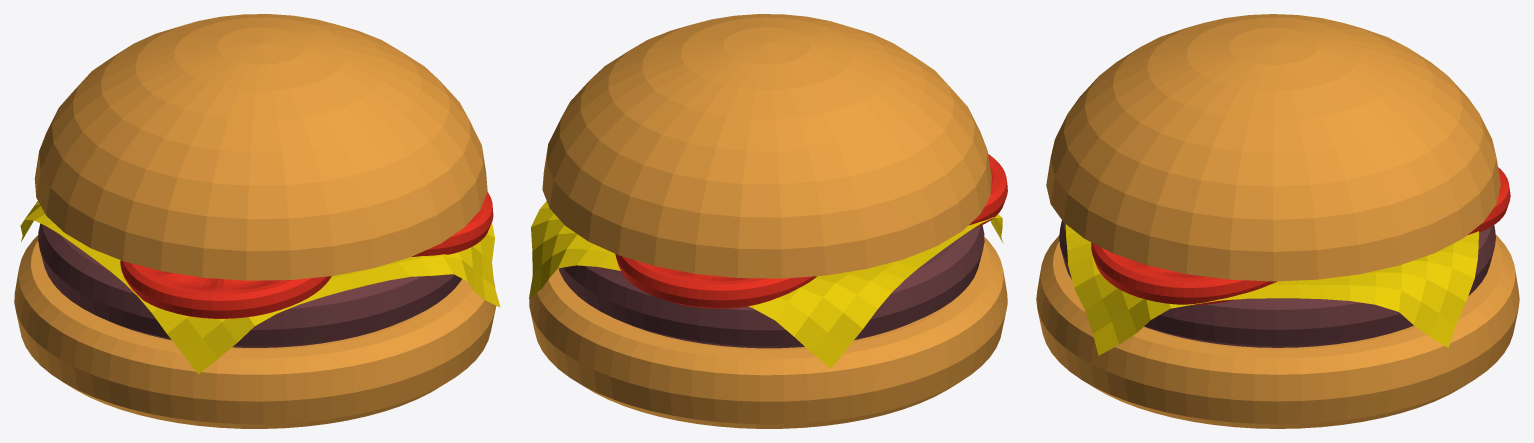
File: burger.fbx
3 renders of one model, left to right at view 1: azimuth 30°, elevation 25°; view 2: azimuth 150°, elevation 25°; view 3: azimuth 270°, elevation 25°, orthographic.
Visible parts, largest first — view 1: Sphere, Cylinder, Cylinder.001, Plane, Cylinder.002, Cylinder.005; view 2: Sphere, Cylinder, Cylinder.001, Plane, Cylinder.004, Cylinder.002; view 3: Sphere, Cylinder, Plane, Cylinder.001, Cylinder.005, Cylinder.004.
Boxes of the visible parts, x1,y1,x2,y2 form: Sphere: (34, 14, 487, 280); Cylinder: (14, 235, 496, 428); Cylinder.001: (38, 223, 461, 347); Plane: (20, 201, 500, 373); Cylinder.002: (120, 260, 331, 318); Cylinder.005: (411, 192, 493, 256); Sphere: (542, 14, 991, 278); Cylinder: (529, 237, 1007, 428); Cylinder.001: (558, 225, 984, 348); Plane: (530, 201, 1003, 368); Cylinder.004: (615, 254, 816, 308); Cylinder.002: (969, 154, 1007, 228); Sphere: (1046, 14, 1500, 281); Cylinder: (1036, 235, 1519, 428); Plane: (1065, 224, 1478, 355); Cylinder.001: (1059, 220, 1495, 347); Cylinder.005: (1091, 242, 1277, 305); Cylinder.004: (1468, 167, 1510, 234).
Size of the model in its own units: 60.64 by 40.84 by 60.64.
